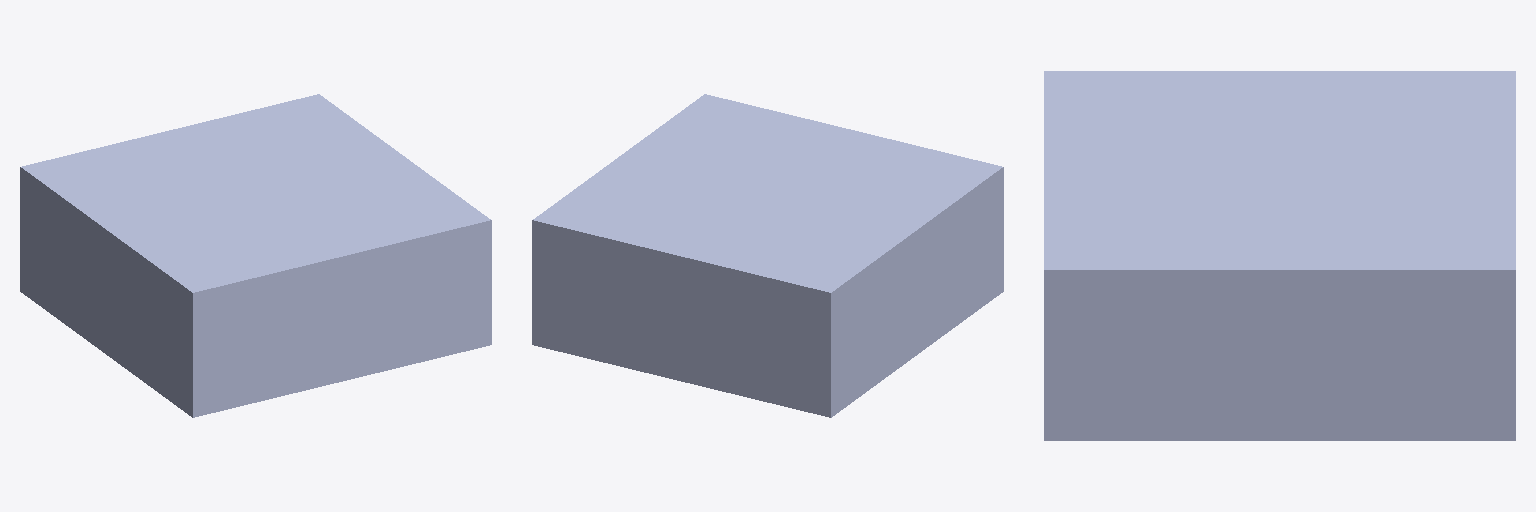
robot.urdf — Box:
<robot
  name="Box">
  <link
    name="Box">
    <inertial>
      <origin
        xyz="6.4481E-18 -3.03799997225823E-17 0.1016"
        rpy="0 0 0" />
      <mass
        value="52.439" />
      <inertia
        ixx="1.30814322388036"
        ixy="2.93746508598739E-17"
        ixz="2.40727860045808E-16"
        iyy="1.37899672694495E-16"
        iyz="-1.30814322388036"
        izz="8.02983959093201E-17" />
    </inertial>
    <visual>
      <origin
        xyz="0 0 0"
        rpy="1.5707963267949 0 0" />
      <geometry>
        <mesh
          filename="package://Box/meshes/Box.STL" />
      </geometry>
      <material
        name="">
        <color
          rgba="0.79216 0.81961 0.93333 1" />
      </material>
    </visual>
    <collision>
      <origin
        xyz="0 0 0"
        rpy="1.5707963267949 0 0" />
      <geometry>
        <mesh
          filename="package://Box/meshes/Box.STL" />
      </geometry>
    </collision>
  </link>

  <gazebo reference="Box">
    <material>Gazebo/WoodPallet</material>
  </gazebo>
</robot>

--- Render facts (derived) ---
3 views of the same robot in one strip: view 1: azimuth 30°, elevation 25°; view 2: azimuth 150°, elevation 25°; view 3: azimuth 270°, elevation 25° (orthographic).
Robot: Box — 1 links, 0 joints (none); root link Box; default pose: all joints at 0.
Visible links, largest first — view 1: Box; view 2: Box; view 3: Box.
Link boxes in pixels (x1,y1,x2,y2): Box: (20,94,491,417); Box: (532,94,1003,417); Box: (1044,71,1515,440).
Size in the robot's own frame: 0.508 by 0.508 by 0.2032 metres.
1 mesh visuals loaded from 1 distinct referenced files (1 binary STL).